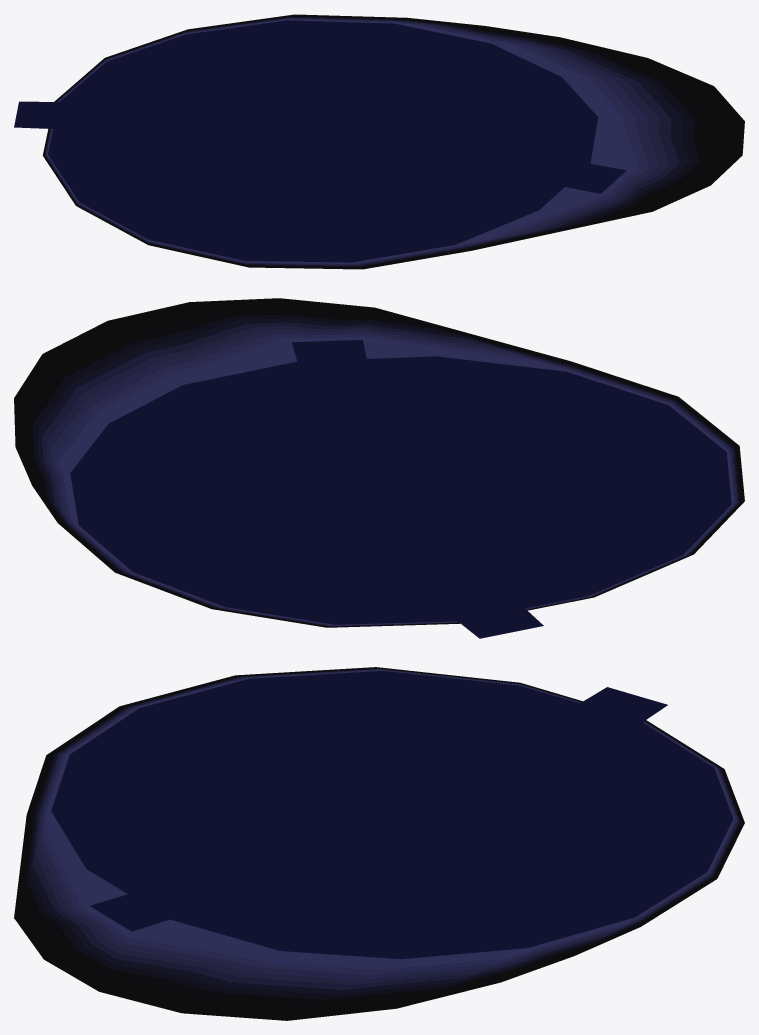
3 views of the same model, one above another, from view 1: azimuth 30°, elevation 25°; view 2: azimuth 150°, elevation 25°; view 3: azimuth 270°, elevation 25° (orthographic). The views are drawn at different scales.
Parts seen in each view (by area): view 1: Joint_0_Object_0; view 2: Joint_0_Object_0; view 3: Joint_0_Object_0.
Boxes of the visible parts, <box> form: Joint_0_Object_0: <box>14,14,744,269</box>; Joint_0_Object_0: <box>14,298,744,638</box>; Joint_0_Object_0: <box>14,667,744,1020</box>.
Size of the model in its own units: 629 by 0 by 549.
1 material, 1 textured.
